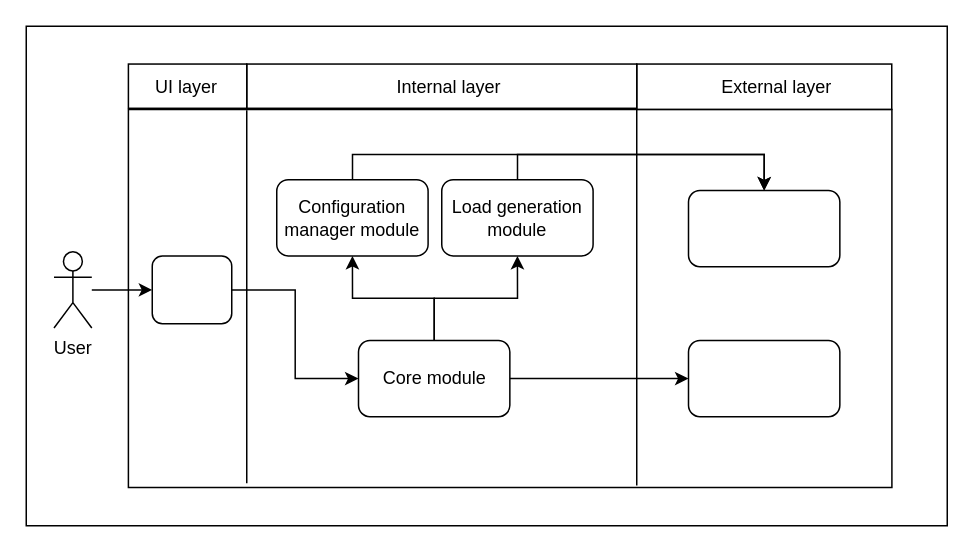
This 974x552 diagram has some shape labels left out. The centre of each missing label's shape, as x and y in pixels:
"Datastore" goes at point (763, 378).
"System under the test" goes at point (763, 228).
"UI" goes at point (191, 289).
